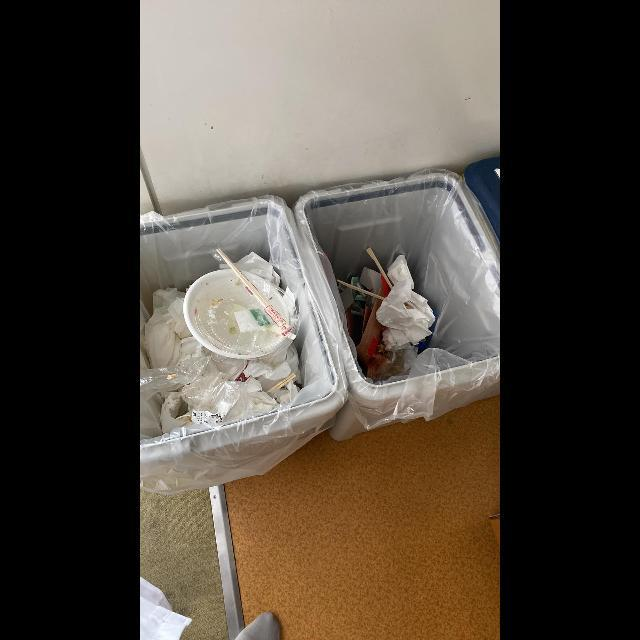paper: (376, 255, 435, 344), (144, 287, 190, 368), (382, 330, 414, 353)
plastic: (140, 357, 210, 401)
